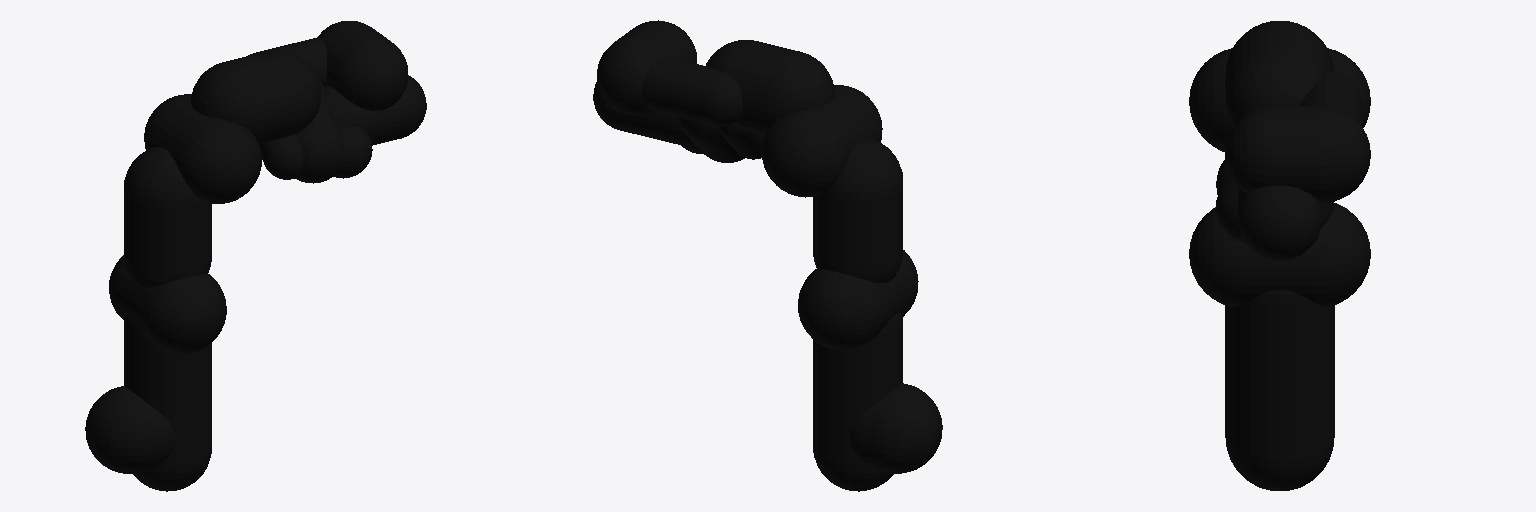
The robot description file, URDF, robot "panda_with_finger":
<?xml version="1.0"?>
<robot name="panda_with_finger">
  <material name="Collision_Link_Color">
    <color rgba="0.1 0.1 0.1 0.0"/>
  </material>
  <link name="world"/>
  <joint name="panda_joint_world" type="fixed">
    <parent link="world"/>
    <child link="panda_link0"/>
    <origin rpy="0 0 0" xyz="0 0 0"/>
  </joint>
  <!-- sub-link defining detailed meshes for collision with environment -->
  <link name="panda_link0">
    <visual>
      <geometry>
        <mesh filename="meshes/visual/link0.dae"/>
      </geometry>
    </visual>
    <collision>
      <geometry>
        <mesh filename="meshes/collision/link0.stl"/>
      </geometry>
    </collision>
  </link>
  <!-- sub-link defining coarse geometries of real robot's internal self-collision -->
  <link name="panda_link0_sc">
    <visual>
      <origin rpy="0 1.5707963267948966 0" xyz="-0.075 0 0.06"/>
      <geometry>
        <cylinder length="0.03" radius="0.09"/>
      </geometry>
      <material name="Collision_Link_Color"/>
    </visual>
    <visual>
      <origin xyz="-0.06 0 0.06"/>
      <geometry>
        <sphere radius="0.09"/>
      </geometry>
      <material name="Collision_Link_Color"/>
    </visual>
    <visual>
      <origin xyz="-0.09 0 0.06"/>
      <geometry>
        <sphere radius="0.09"/>
      </geometry>
      <material name="Collision_Link_Color"/>
    </visual>
  </link>
  <!-- fixed joint between both sub-links -->
  <joint name="panda_link0_sc_joint" type="fixed">
    <origin rpy="0 0 0"/>
    <parent link="panda_link0"/>
    <child link="panda_link0_sc"/>
  </joint>
  <!-- sub-link defining detailed meshes for collision with environment -->
  <link name="panda_link1">
    <visual>
      <geometry>
        <mesh filename="meshes/visual/link1.obj"/>
      </geometry>
    </visual>
    <collision>
      <geometry>
        <mesh filename="meshes/collision/link1.stl"/>
      </geometry>
    </collision>
  </link>
  <!-- sub-link defining coarse geometries of real robot's internal self-collision -->
  <link name="panda_link1_sc">
    <visual>
      <origin rpy="0 0 0" xyz="0 0 -0.1915"/>
      <geometry>
        <cylinder length="0.283" radius="0.09"/>
      </geometry>
      <material name="Collision_Link_Color"/>
    </visual>
    <visual>
      <origin xyz="0 0 -0.05000000000000002"/>
      <geometry>
        <sphere radius="0.09"/>
      </geometry>
      <material name="Collision_Link_Color"/>
    </visual>
    <visual>
      <origin xyz="0 0 -0.33299999999999996"/>
      <geometry>
        <sphere radius="0.09"/>
      </geometry>
      <material name="Collision_Link_Color"/>
    </visual>
  </link>
  <!-- fixed joint between both sub-links -->
  <joint name="panda_link1_sc_joint" type="fixed">
    <origin rpy="0 0 0"/>
    <parent link="panda_link1"/>
    <child link="panda_link1_sc"/>
  </joint>
  <joint name="panda_joint1" type="revolute">
    <origin rpy="0 0 0" xyz="0 0 0.333"/>
    <parent link="panda_link0"/>
    <child link="panda_link1"/>
    <axis xyz="0 0 1"/>
    <limit effort="87.0" lower="-2.8973" upper="2.8973" velocity="2.175"/>
    <safety_controller k_position="100.0" k_velocity="40.0" soft_lower_limit="-2.8973" soft_upper_limit="2.8973"/>
    <dynamics D="1" K="7000" damping="0.003" friction="0.0" mu_coulomb="0" mu_viscous="16"/>
  </joint>
  <!-- sub-link defining detailed meshes for collision with environment -->
  <link name="panda_link2">
    <visual>
      <geometry>
        <mesh filename="meshes/visual/link2.obj"/>
      </geometry>
    </visual>
    <collision>
      <geometry>
        <mesh filename="meshes/collision/link2.stl"/>
      </geometry>
    </collision>
  </link>
  <!-- sub-link defining coarse geometries of real robot's internal self-collision -->
  <link name="panda_link2_sc">
    <visual>
      <origin rpy="0 0 0" xyz="0 0 0"/>
      <geometry>
        <cylinder length="0.12" radius="0.09"/>
      </geometry>
      <material name="Collision_Link_Color"/>
    </visual>
    <visual>
      <origin xyz="0 0 0.06"/>
      <geometry>
        <sphere radius="0.09"/>
      </geometry>
      <material name="Collision_Link_Color"/>
    </visual>
    <visual>
      <origin xyz="0 0 -0.06"/>
      <geometry>
        <sphere radius="0.09"/>
      </geometry>
      <material name="Collision_Link_Color"/>
    </visual>
  </link>
  <!-- fixed joint between both sub-links -->
  <joint name="panda_link2_sc_joint" type="fixed">
    <origin rpy="0 0 0"/>
    <parent link="panda_link2"/>
    <child link="panda_link2_sc"/>
  </joint>
  <joint name="panda_joint2" type="revolute">
    <origin rpy="-1.5707963267948966 0 0" xyz="0 0 0"/>
    <parent link="panda_link1"/>
    <child link="panda_link2"/>
    <axis xyz="0 0 1"/>
    <limit effort="87.0" lower="-1.7628" upper="1.7628" velocity="2.175"/>
    <safety_controller k_position="100.0" k_velocity="40.0" soft_lower_limit="-1.7628" soft_upper_limit="1.7628"/>
    <dynamics D="1" K="7000" damping="0.003" friction="0.0" mu_coulomb="0" mu_viscous="16"/>
  </joint>
  <!-- sub-link defining detailed meshes for collision with environment -->
  <link name="panda_link3">
    <visual>
      <geometry>
        <mesh filename="meshes/visual/link3.obj"/>
      </geometry>
    </visual>
    <collision>
      <geometry>
        <mesh filename="meshes/collision/link3.stl"/>
      </geometry>
    </collision>
  </link>
  <!-- sub-link defining coarse geometries of real robot's internal self-collision -->
  <link name="panda_link3_sc">
    <visual>
      <origin rpy="0 0 0" xyz="0 0 -0.145"/>
      <geometry>
        <cylinder length="0.15" radius="0.09"/>
      </geometry>
      <material name="Collision_Link_Color"/>
    </visual>
    <visual>
      <origin xyz="0 0 -0.06999999999999999"/>
      <geometry>
        <sphere radius="0.09"/>
      </geometry>
      <material name="Collision_Link_Color"/>
    </visual>
    <visual>
      <origin xyz="0 0 -0.21999999999999997"/>
      <geometry>
        <sphere radius="0.09"/>
      </geometry>
      <material name="Collision_Link_Color"/>
    </visual>
  </link>
  <joint name="panda_link3_sc_joint" type="fixed">
    <origin rpy="0 0 0"/>
    <parent link="panda_link3"/>
    <child link="panda_link3_sc"/>
  </joint>
  <joint name="panda_joint3" type="revolute">
    <origin rpy="1.5707963267948966 0 0" xyz="0 -0.316 0"/>
    <parent link="panda_link2"/>
    <child link="panda_link3"/>
    <axis xyz="0 0 1"/>
    <limit effort="87.0" lower="-2.8973" upper="2.8973" velocity="2.175"/>
    <safety_controller k_position="100.0" k_velocity="40.0" soft_lower_limit="-2.8973" soft_upper_limit="2.8973"/>
    <dynamics D="1" K="7000" damping="0.003" friction="0.0" mu_coulomb="0" mu_viscous="16"/>
  </joint>
  <!-- sub-link defining detailed meshes for collision with environment -->
  <link name="panda_link4">
    <visual>
      <geometry>
        <mesh filename="meshes/visual/link4.obj"/>
      </geometry>
    </visual>
    <collision>
      <geometry>
        <mesh filename="meshes/collision/link4.stl"/>
      </geometry>
    </collision>
  </link>
  <!-- sub-link defining coarse geometries of real robot's internal self-collision -->
  <link name="panda_link4_sc">
    <visual>
      <origin rpy="0 0 0" xyz="0 0 0"/>
      <geometry>
        <cylinder length="0.12" radius="0.09"/>
      </geometry>
      <material name="Collision_Link_Color"/>
    </visual>
    <visual>
      <origin xyz="0 0 0.06"/>
      <geometry>
        <sphere radius="0.09"/>
      </geometry>
      <material name="Collision_Link_Color"/>
    </visual>
    <visual>
      <origin xyz="0 0 -0.06"/>
      <geometry>
        <sphere radius="0.09"/>
      </geometry>
      <material name="Collision_Link_Color"/>
    </visual>
  </link>
  <!-- fixed joint between both sub-links -->
  <joint name="panda_link4_sc_joint" type="fixed">
    <origin rpy="0 0 0"/>
    <parent link="panda_link4"/>
    <child link="panda_link4_sc"/>
  </joint>
  <joint name="panda_joint4" type="revolute">
    <origin rpy="1.5707963267948966 0 0" xyz="0.0825 0 0"/>
    <parent link="panda_link3"/>
    <child link="panda_link4"/>
    <axis xyz="0 0 1"/>
    <limit effort="87.0" lower="-3.0718" upper="-0.0698" velocity="2.175"/>
    <safety_controller k_position="100.0" k_velocity="40.0" soft_lower_limit="-3.0718" soft_upper_limit="-0.0698"/>
    <dynamics D="1" K="7000" damping="0.003" friction="0.0" mu_coulomb="0" mu_viscous="16"/>
  </joint>
  <!-- sub-link defining detailed meshes for collision with environment -->
  <link name="panda_link5">
    <visual>
      <geometry>
        <mesh filename="meshes/visual/link5.obj"/>
      </geometry>
    </visual>
    <collision>
      <geometry>
        <mesh filename="meshes/collision/link5.stl"/>
      </geometry>
    </collision>
  </link>
  <!-- sub-link defining coarse geometries of real robot's internal self-collision -->
  <link name="panda_link5_sc">
    <visual>
      <origin rpy="0 0 0" xyz="0 0 -0.26"/>
      <geometry>
        <cylinder length="0.1" radius="0.09"/>
      </geometry>
      <material name="Collision_Link_Color"/>
    </visual>
    <visual>
      <origin xyz="0 0 -0.21000000000000002"/>
      <geometry>
        <sphere radius="0.09"/>
      </geometry>
      <material name="Collision_Link_Color"/>
    </visual>
    <visual>
      <origin xyz="0 0 -0.31"/>
      <geometry>
        <sphere radius="0.09"/>
      </geometry>
      <material name="Collision_Link_Color"/>
    </visual>
    <visual>
      <origin rpy="0 0 0.08" xyz="0 0.08 -0.13"/>
      <geometry>
        <cylinder length="0.14" radius="0.055"/>
      </geometry>
      <material name="Collision_Link_Color"/>
    </visual>
    <visual>
      <origin xyz="0 0.08 -0.06"/>
      <geometry>
        <sphere radius="0.055"/>
      </geometry>
      <material name="Collision_Link_Color"/>
    </visual>
    <visual>
      <origin xyz="0 0.08 -0.2"/>
      <geometry>
        <sphere radius="0.055"/>
      </geometry>
      <material name="Collision_Link_Color"/>
    </visual>
  </link>
  <!-- fixed joint between both sub-links -->
  <joint name="panda_link5_sc_joint" type="fixed">
    <origin rpy="0 0 0"/>
    <parent link="panda_link5"/>
    <child link="panda_link5_sc"/>
  </joint>
  <joint name="panda_joint5" type="revolute">
    <origin rpy="-1.5707963267948966 0 0" xyz="-0.0825 0.384 0"/>
    <parent link="panda_link4"/>
    <child link="panda_link5"/>
    <axis xyz="0 0 1"/>
    <limit effort="12.0" lower="-2.8973" upper="2.8973" velocity="2.61"/>
    <safety_controller k_position="100.0" k_velocity="40.0" soft_lower_limit="-2.8973" soft_upper_limit="2.8973"/>
    <dynamics D="1" K="7000" damping="0.003" friction="0.0" mu_coulomb="0" mu_viscous="16"/>
  </joint>
  <!-- sub-link defining detailed meshes for collision with environment -->
  <link name="panda_link6">
    <visual>
      <geometry>
        <mesh filename="meshes/visual/link6.obj"/>
      </geometry>
    </visual>
    <collision>
      <geometry>
        <mesh filename="meshes/collision/link6.stl"/>
      </geometry>
    </collision>
  </link>
  <!-- sub-link defining coarse geometries of real robot's internal self-collision -->
  <link name="panda_link6_sc">
    <visual>
      <origin rpy="0 0 0" xyz="0 0 -0.03"/>
      <geometry>
        <cylinder length="0.08" radius="0.08"/>
      </geometry>
      <material name="Collision_Link_Color"/>
    </visual>
    <visual>
      <origin xyz="0 0 0.010000000000000002"/>
      <geometry>
        <sphere radius="0.08"/>
      </geometry>
      <material name="Collision_Link_Color"/>
    </visual>
    <visual>
      <origin xyz="0 0 -0.07"/>
      <geometry>
        <sphere radius="0.08"/>
      </geometry>
      <material name="Collision_Link_Color"/>
    </visual>
  </link>
  <!-- fixed joint between both sub-links -->
  <joint name="panda_link6_sc_joint" type="fixed">
    <origin rpy="0 0 0"/>
    <parent link="panda_link6"/>
    <child link="panda_link6_sc"/>
  </joint>
  <joint name="panda_joint6" type="revolute">
    <origin rpy="1.5707963267948966 0 0" xyz="0 0 0"/>
    <parent link="panda_link5"/>
    <child link="panda_link6"/>
    <axis xyz="0 0 1"/>
    <limit effort="12.0" lower="-0.0175" upper="3.7525" velocity="2.61"/>
    <safety_controller k_position="100.0" k_velocity="40.0" soft_lower_limit="-0.0175" soft_upper_limit="3.7525"/>
    <dynamics D="1" K="7000" damping="0.003" friction="0.0" mu_coulomb="0" mu_viscous="16"/>
  </joint>
  <!-- sub-link defining detailed meshes for collision with environment -->
  <link name="panda_link7">
    <visual>
      <geometry>
        <mesh filename="meshes/visual/link7.dae"/>
      </geometry>
    </visual>
    <collision>
      <geometry>
        <mesh filename="meshes/collision/link7.stl"/>
      </geometry>
    </collision>
  </link>
  <!-- sub-link defining coarse geometries of real robot's internal self-collision -->
  <link name="panda_link7_sc">
    <visual>
      <origin rpy="0 0 0" xyz="0 0 0.01"/>
      <geometry>
        <cylinder length="0.14" radius="0.07"/>
      </geometry>
      <material name="Collision_Link_Color"/>
    </visual>
    <visual>
      <origin xyz="0 0 0.08"/>
      <geometry>
        <sphere radius="0.07"/>
      </geometry>
      <material name="Collision_Link_Color"/>
    </visual>
    <visual>
      <origin xyz="0 0 -0.060000000000000005"/>
      <geometry>
        <sphere radius="0.07"/>
      </geometry>
      <material name="Collision_Link_Color"/>
    </visual>
    <visual>
      <origin rpy="0 1.5707963267948966 0" xyz="0.06 0 0.082"/>
      <geometry>
        <cylinder length="0.01" radius="0.06"/>
      </geometry>
      <material name="Collision_Link_Color"/>
    </visual>
    <visual>
      <origin xyz="0.065 0 0.082"/>
      <geometry>
        <sphere radius="0.06"/>
      </geometry>
      <material name="Collision_Link_Color"/>
    </visual>
    <visual>
      <origin xyz="0.055 0 0.082"/>
      <geometry>
        <sphere radius="0.06"/>
      </geometry>
      <material name="Collision_Link_Color"/>
    </visual>
  </link>
  <!-- fixed joint between both sub-links -->
  <joint name="panda_link7_sc_joint" type="fixed">
    <origin rpy="0 0 0.7853981633974483"/>
    <parent link="panda_link7"/>
    <child link="panda_link7_sc"/>
  </joint>
  <joint name="panda_joint7" type="revolute">
    <origin rpy="1.5707963267948966 0 0" xyz="0.088 0 0"/>
    <parent link="panda_link6"/>
    <child link="panda_link7"/>
    <axis xyz="0 0 1"/>
    <limit effort="12.0" lower="-2.8973" upper="2.8973" velocity="2.61"/>
    <safety_controller k_position="100.0" k_velocity="40.0" soft_lower_limit="-2.8973" soft_upper_limit="2.8973"/>
    <dynamics D="1" K="7000" damping="0.003" friction="0.0" mu_coulomb="0" mu_viscous="16"/>
  </joint>
  <link name="panda_link8"/>
  <joint name="panda_joint8" type="fixed">
    <origin rpy="0 0 0" xyz="0 0 0.107"/>
    <parent link="panda_link7"/>
    <child link="panda_link8"/>
  </joint>
  <joint name="panda_hand_joint" type="fixed">
    <parent link="panda_link8"/>
    <child link="panda_hand"/>
    <origin rpy="0 0 -0.7853981633974483" xyz="0 0 0"/>
  </joint>
  <!-- sub-link defining detailed meshes for collision with environment -->
  <link name="panda_hand">
    <visual>
      <geometry>
        <mesh filename="meshes/visual/hand.obj"/>
      </geometry>
    </visual>
    <collision>
      <geometry>
        <mesh filename="meshes/collision/hand.stl"/>
      </geometry>
    </collision>
  </link>
  <!-- sub-link defining coarse geometries of real robot's internal self-collision -->
  <link name="panda_hand_sc">
    <visual>
      <origin rpy="1.5707963267948966 0 0" xyz="0 0 0.04"/>
      <geometry>
        <cylinder length="0.1" radius="0.07"/>
      </geometry>
      <material name="Collision_Link_Color"/>
    </visual>
    <visual>
      <origin xyz="0 0.05 0.04"/>
      <geometry>
        <sphere radius="0.07"/>
      </geometry>
      <material name="Collision_Link_Color"/>
    </visual>
    <visual>
      <origin xyz="0 -0.05 0.04"/>
      <geometry>
        <sphere radius="0.07"/>
      </geometry>
      <material name="Collision_Link_Color"/>
    </visual>
    <visual>
      <origin rpy="1.5707963267948966 0 0" xyz="0 0 0.1"/>
      <geometry>
        <cylinder length="0.1" radius="0.05"/>
      </geometry>
      <material name="Collision_Link_Color"/>
    </visual>
    <visual>
      <origin xyz="0 0.05 0.1"/>
      <geometry>
        <sphere radius="0.05"/>
      </geometry>
      <material name="Collision_Link_Color"/>
    </visual>
    <visual>
      <origin xyz="0 -0.05 0.1"/>
      <geometry>
        <sphere radius="0.05"/>
      </geometry>
      <material name="Collision_Link_Color"/>
    </visual>
  </link>
  <!-- fixed joint between both sub-links -->
  <joint name="panda_hand_sc_joint" type="fixed">
    <origin rpy="0 0 0"/>
    <parent link="panda_hand"/>
    <child link="panda_hand_sc"/>
  </joint>
  <!-- Define the hand_tcp frame -->
  <link name="panda_hand_tcp"/>
  <joint name="panda_hand_tcp_joint" type="fixed">
    <origin rpy="0 0 0" xyz="0 0 0.1034"/>
    <parent link="panda_hand"/>
    <child link="panda_hand_tcp"/>
  </joint>
  <link name="panda_leftfinger">
    <visual>
      <geometry>
        <mesh filename="meshes/visual/finger.obj"/>
      </geometry>
    </visual>
    <!-- screw mount -->
    <collision>
      <origin rpy="0 0 0" xyz="0 18.5e-3 11e-3"/>
      <geometry>
        <box size="22e-3 15e-3 20e-3"/>
      </geometry>
    </collision>
    <!-- cartriage sledge -->
    <collision>
      <origin rpy="0 0 0" xyz="0 6.8e-3 2.2e-3"/>
      <geometry>
        <box size="22e-3 8.8e-3 3.8e-3"/>
      </geometry>
    </collision>
    <!-- diagonal finger -->
    <collision>
      <origin rpy="0.5235987755982988 0 0" xyz="0 15.9e-3 28.35e-3"/>
      <geometry>
        <box size="17.5e-3 7e-3 23.5e-3"/>
      </geometry>
    </collision>
    <!-- rubber tip with which to grasp -->
    <collision>
      <origin rpy="0 0 0" xyz="0 7.58e-3 45.25e-3"/>
      <geometry>
        <box size="17.5e-3 15.2e-3 18.5e-3"/>
      </geometry>
    </collision>
  </link>
  <link name="panda_rightfinger">
    <visual>
      <origin rpy="0 0 3.141592653589793" xyz="0 0 0"/>
      <geometry>
        <mesh filename="meshes/visual/finger.obj"/>
      </geometry>
    </visual>
    <!-- screw mount -->
    <collision>
      <origin rpy="0 0 0" xyz="0 -18.5e-3 11e-3"/>
      <geometry>
        <box size="22e-3 15e-3 20e-3"/>
      </geometry>
    </collision>
    <!-- cartriage sledge -->
    <collision>
      <origin rpy="0 0 0" xyz="0 -6.8e-3 2.2e-3"/>
      <geometry>
        <box size="22e-3 8.8e-3 3.8e-3"/>
      </geometry>
    </collision>
    <!-- diagonal finger -->
    <collision>
      <origin rpy="-0.5235987755982988 0 0" xyz="0 -15.9e-3 28.35e-3"/>
      <geometry>
        <box size="17.5e-3 7e-3 23.5e-3"/>
      </geometry>
    </collision>
    <!-- rubber tip with which to grasp -->
    <collision>
      <origin rpy="0 0 0" xyz="0 -7.58e-3 45.25e-3"/>
      <geometry>
        <box size="17.5e-3 15.2e-3 18.5e-3"/>
      </geometry>
    </collision>
  </link>
  <joint name="panda_finger_joint2" type="prismatic">
    <parent link="panda_hand"/>
    <child link="panda_rightfinger"/>
    <origin rpy="0 0 0" xyz="0 0 0.0584"/>
    <axis xyz="0 -1 0"/>
    <limit effort="100" lower="0.0" upper="0.04" velocity="0.2"/>
    <dynamics damping="0.3"/>
  </joint>
  <joint name="panda_finger_joint1" type="prismatic">
    <parent link="panda_hand"/>
    <child link="panda_leftfinger"/>
    <origin rpy="0 0 0" xyz="0 0 0.0584"/>
    <axis xyz="0 1 0"/>
    <limit effort="100" lower="0.0" upper="0.04" velocity="0.2"/>
    <dynamics damping="0.3"/>
  </joint>
</robot>

--- Facts derived from the render (not from the file) ---
Views: 3 orthographic renders of the robot side by side, from view 1: azimuth 30°, elevation 25°; view 2: azimuth 150°, elevation 25°; view 3: azimuth 270°, elevation 25°.
Model panda_with_finger with 23 links and 22 joints (7 revolute, 2 prismatic, 13 fixed), rooted at world, posed joints at zero except 1 at the middle of their limits (panda_joint4 = -1.57).
Links seen in each view (by area): view 1: panda_link3_sc, panda_link5_sc, panda_link1_sc, panda_link4_sc, panda_link2_sc, panda_link6_sc, panda_link0_sc, panda_link7_sc, panda_hand_sc; view 2: panda_link5_sc, panda_link3_sc, panda_link1_sc, panda_link4_sc, panda_link2_sc, panda_link0_sc, panda_link6_sc, panda_hand_sc, panda_link7_sc; view 3: panda_link1_sc, panda_link6_sc, panda_link2_sc, panda_link5_sc, panda_link7_sc, panda_link4_sc.
Link boxes in pixels (x1,y1,x2,y2): panda_link3_sc: (124, 147, 211, 287); panda_link5_sc: (191, 38, 326, 143); panda_link1_sc: (124, 317, 211, 491); panda_link4_sc: (144, 94, 261, 203); panda_link2_sc: (109, 255, 226, 353); panda_link6_sc: (317, 21, 407, 110); panda_link0_sc: (85, 386, 175, 473); panda_link7_sc: (325, 75, 426, 178); panda_hand_sc: (259, 81, 342, 183); panda_link5_sc: (642, 40, 834, 135); panda_link3_sc: (813, 138, 902, 282); panda_link1_sc: (813, 313, 902, 491); panda_link4_sc: (762, 85, 882, 197); panda_link2_sc: (798, 250, 918, 350); panda_link0_sc: (850, 383, 942, 473); panda_link6_sc: (597, 20, 696, 115); panda_hand_sc: (676, 116, 764, 162); panda_link7_sc: (593, 82, 703, 153); panda_link1_sc: (1225, 290, 1334, 490); panda_link6_sc: (1225, 106, 1370, 202); panda_link2_sc: (1189, 203, 1370, 306); panda_link5_sc: (1225, 21, 1361, 127); panda_link7_sc: (1216, 177, 1321, 260); panda_link4_sc: (1189, 48, 1370, 152).
Size in the robot's own frame: 0.7765 by 0.3 by 0.9115 metres.
Meshes: 10 distinct files referenced, 0 mesh visuals loaded (none loaded); not drawn: 11 (reference not matched to a file when rendering).